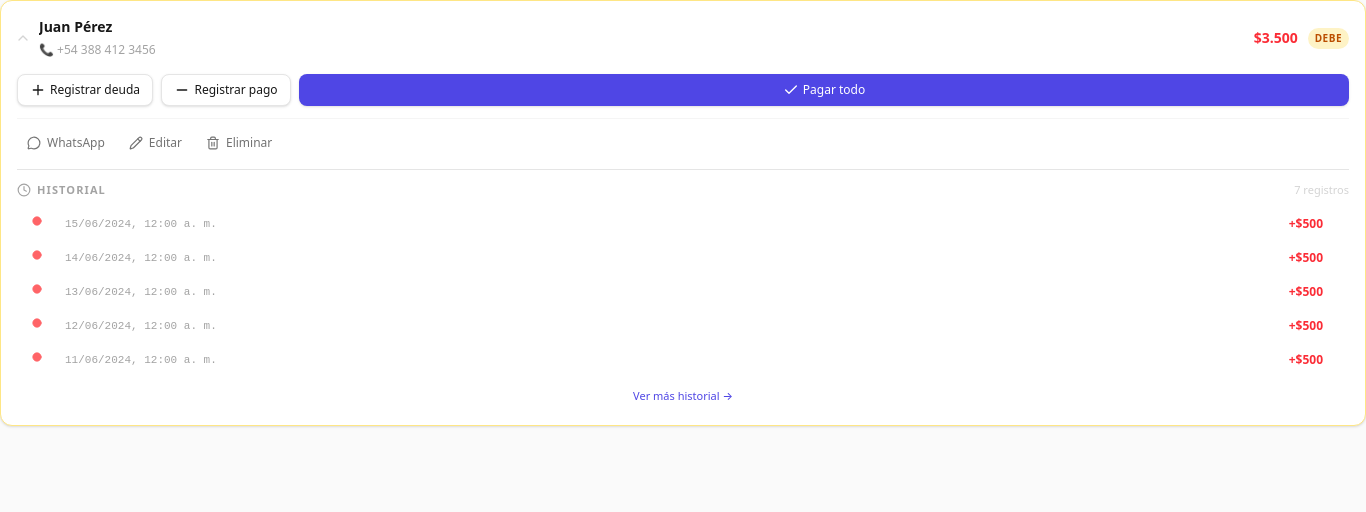
Test: ClientCard › should show history pagination toggle when more than 5 entries
Click the button "Ver más historial →" at x=683, y=396, box [17,384,1349,408]
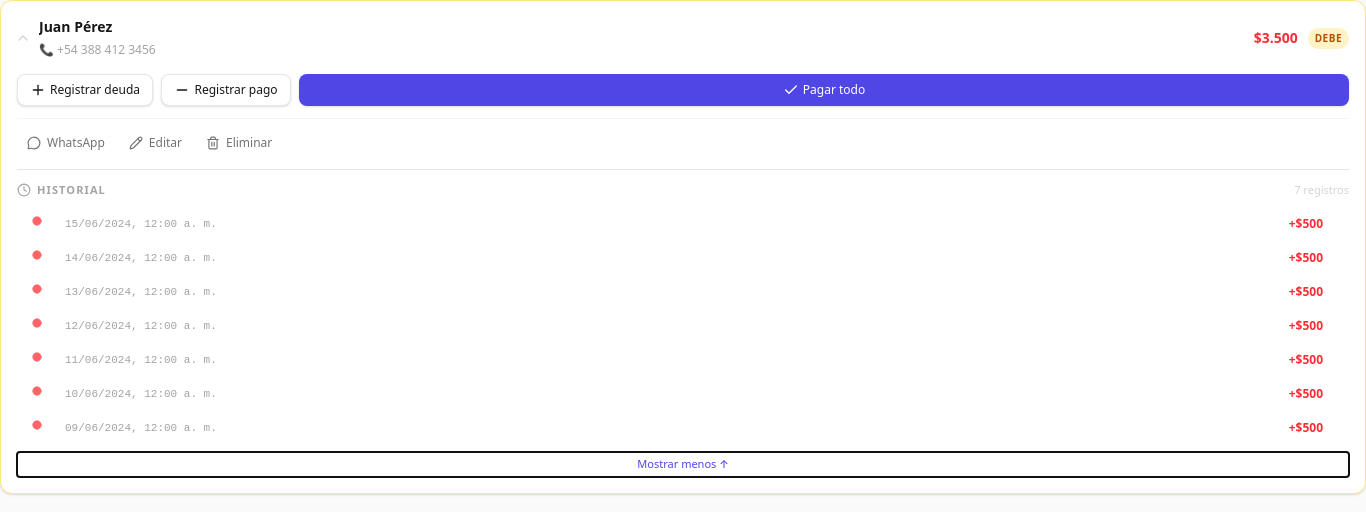
expect the button "Mostrar menos ↑" is shown: met, box [17,452,1349,476]
